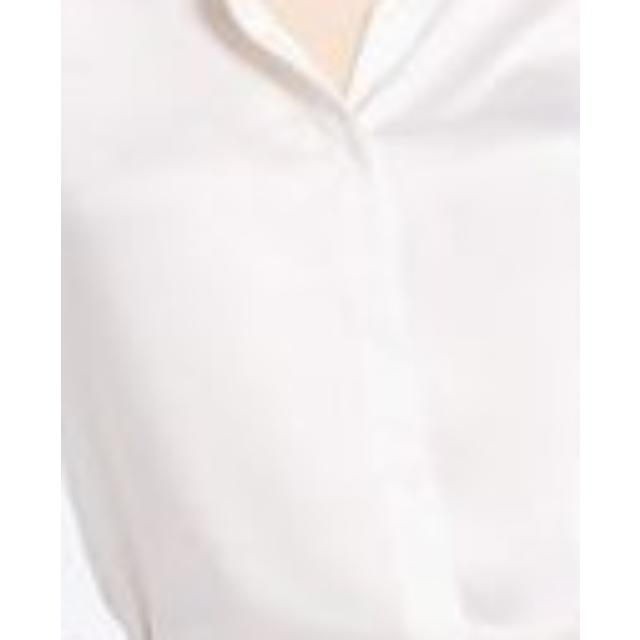silk: (61, 1, 580, 630)
